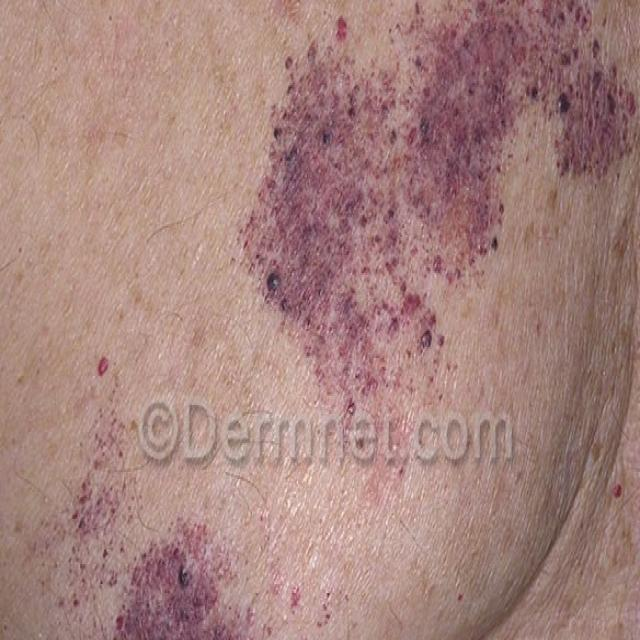Vascular Tumors: (249, 9, 640, 414), (46, 477, 296, 640)
